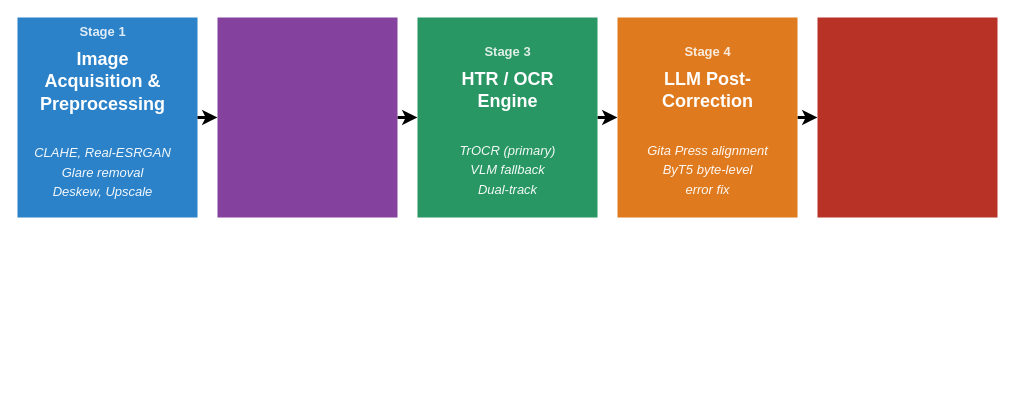
This 1014x394 diagram has some shape labels left out. Here are the shapes that lost their labels. From the top down, the centre of each, then its label:
(307,117): Stage 2 Layout Segmentation SegFormer Text vs Painting 6 region classes
(907,117): Stage 5 Structured Output TEI-XML, PAGE-XML Searchable PDF JSON Index
